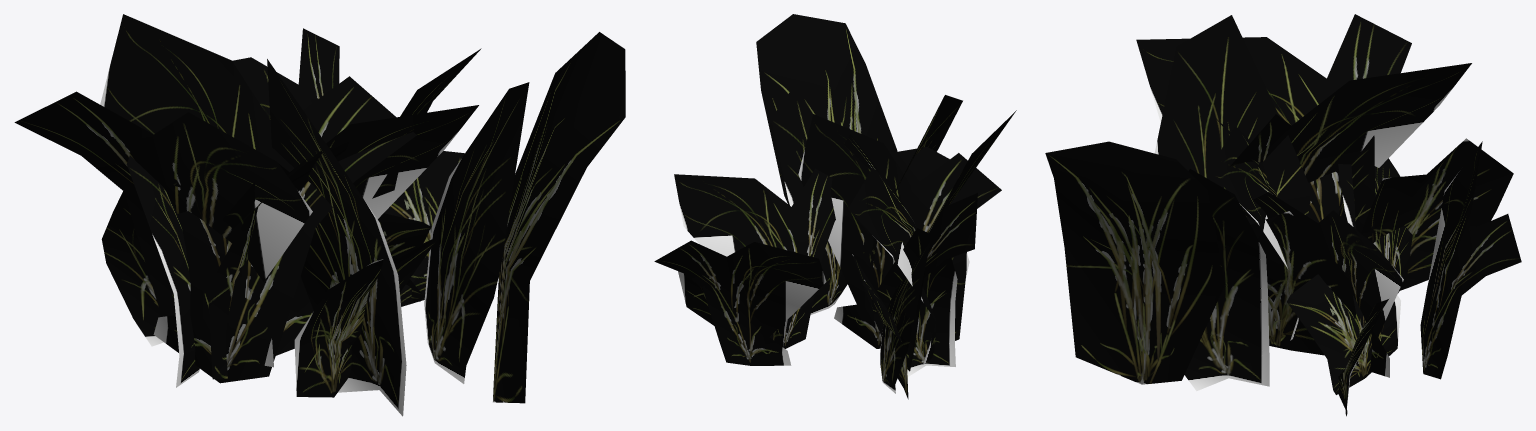
The model's file is GrassPatches02.fbx.
3 views of the same model, side by side, from view 1: azimuth 30°, elevation 25°; view 2: azimuth 150°, elevation 25°; view 3: azimuth 270°, elevation 25° (orthographic). The views are drawn at different scales.
Visible parts, largest first — view 1: grasspatch2; view 2: grasspatch2; view 3: grasspatch2.
Boxes of the visible parts, x1,y1,x2,y2 form: grasspatch2: (14, 14, 625, 416); grasspatch2: (654, 14, 1016, 399); grasspatch2: (1045, 14, 1521, 416).
Bounding box in the file's own units: 1.61 × 1.2 × 1.7.
